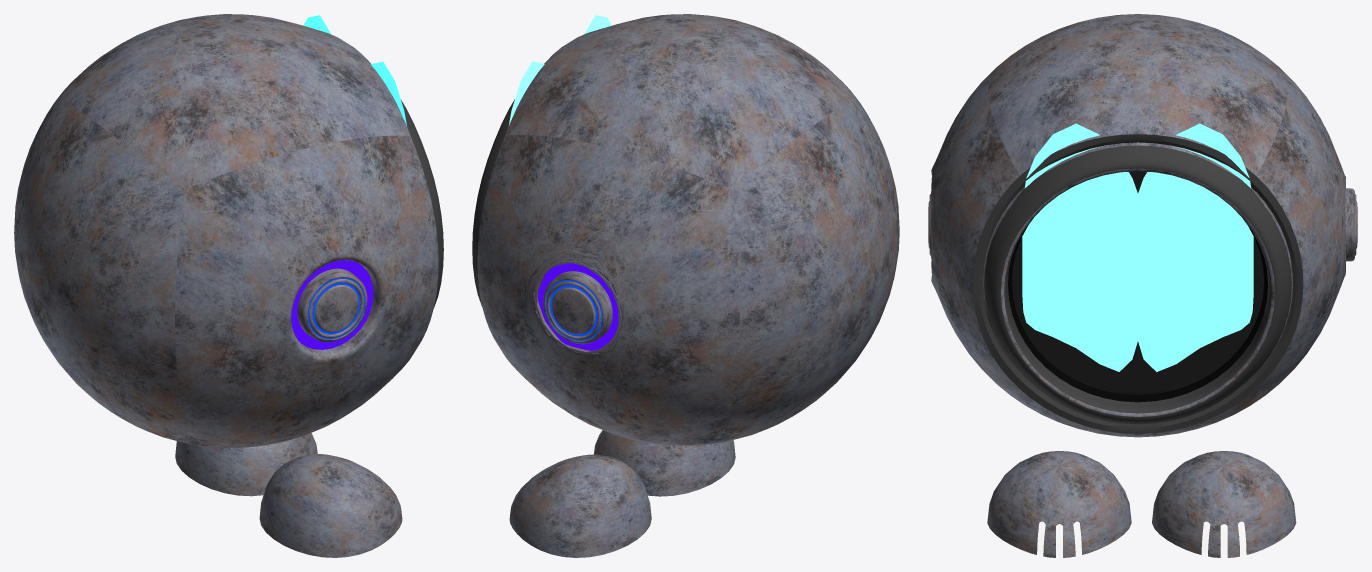
Rendered from android_bot.glb.
3 renders of one model, left to right at view 1: azimuth 30°, elevation 25°; view 2: azimuth 150°, elevation 25°; view 3: azimuth 270°, elevation 25°, orthographic. The views are drawn at different scales.
Visible parts, largest first — view 1: android head, foot, button, foot.001, eyes; view 2: android head, foot.001, foot, button.001, eyes; view 3: android head, eyes, foot, foot.001, button.001.
Boxes of the visible parts, x1=… form: android head: x1=14, y1=14, x2=443, y2=448; foot: x1=259, y1=454, x2=402, y2=557; button: x1=291, y1=260, x2=373, y2=349; foot.001: x1=175, y1=433, x2=317, y2=496; eyes: x1=303, y1=15, x2=406, y2=125; android head: x1=472, y1=14, x2=899, y2=445; foot.001: x1=509, y1=454, x2=651, y2=557; foot: x1=594, y1=430, x2=735, y2=496; button.001: x1=538, y1=263, x2=618, y2=350; eyes: x1=509, y1=15, x2=611, y2=125; android head: x1=931, y1=14, x2=1345, y2=437; eyes: x1=1022, y1=123, x2=1253, y2=371; foot: x1=987, y1=451, x2=1131, y2=557; foot.001: x1=1152, y1=451, x2=1296, y2=557; button.001: x1=1345, y1=188, x2=1357, y2=261.
Size of the model in its own units: 2.13 by 2.94 by 2.47.
9 materials, 2 textured.
